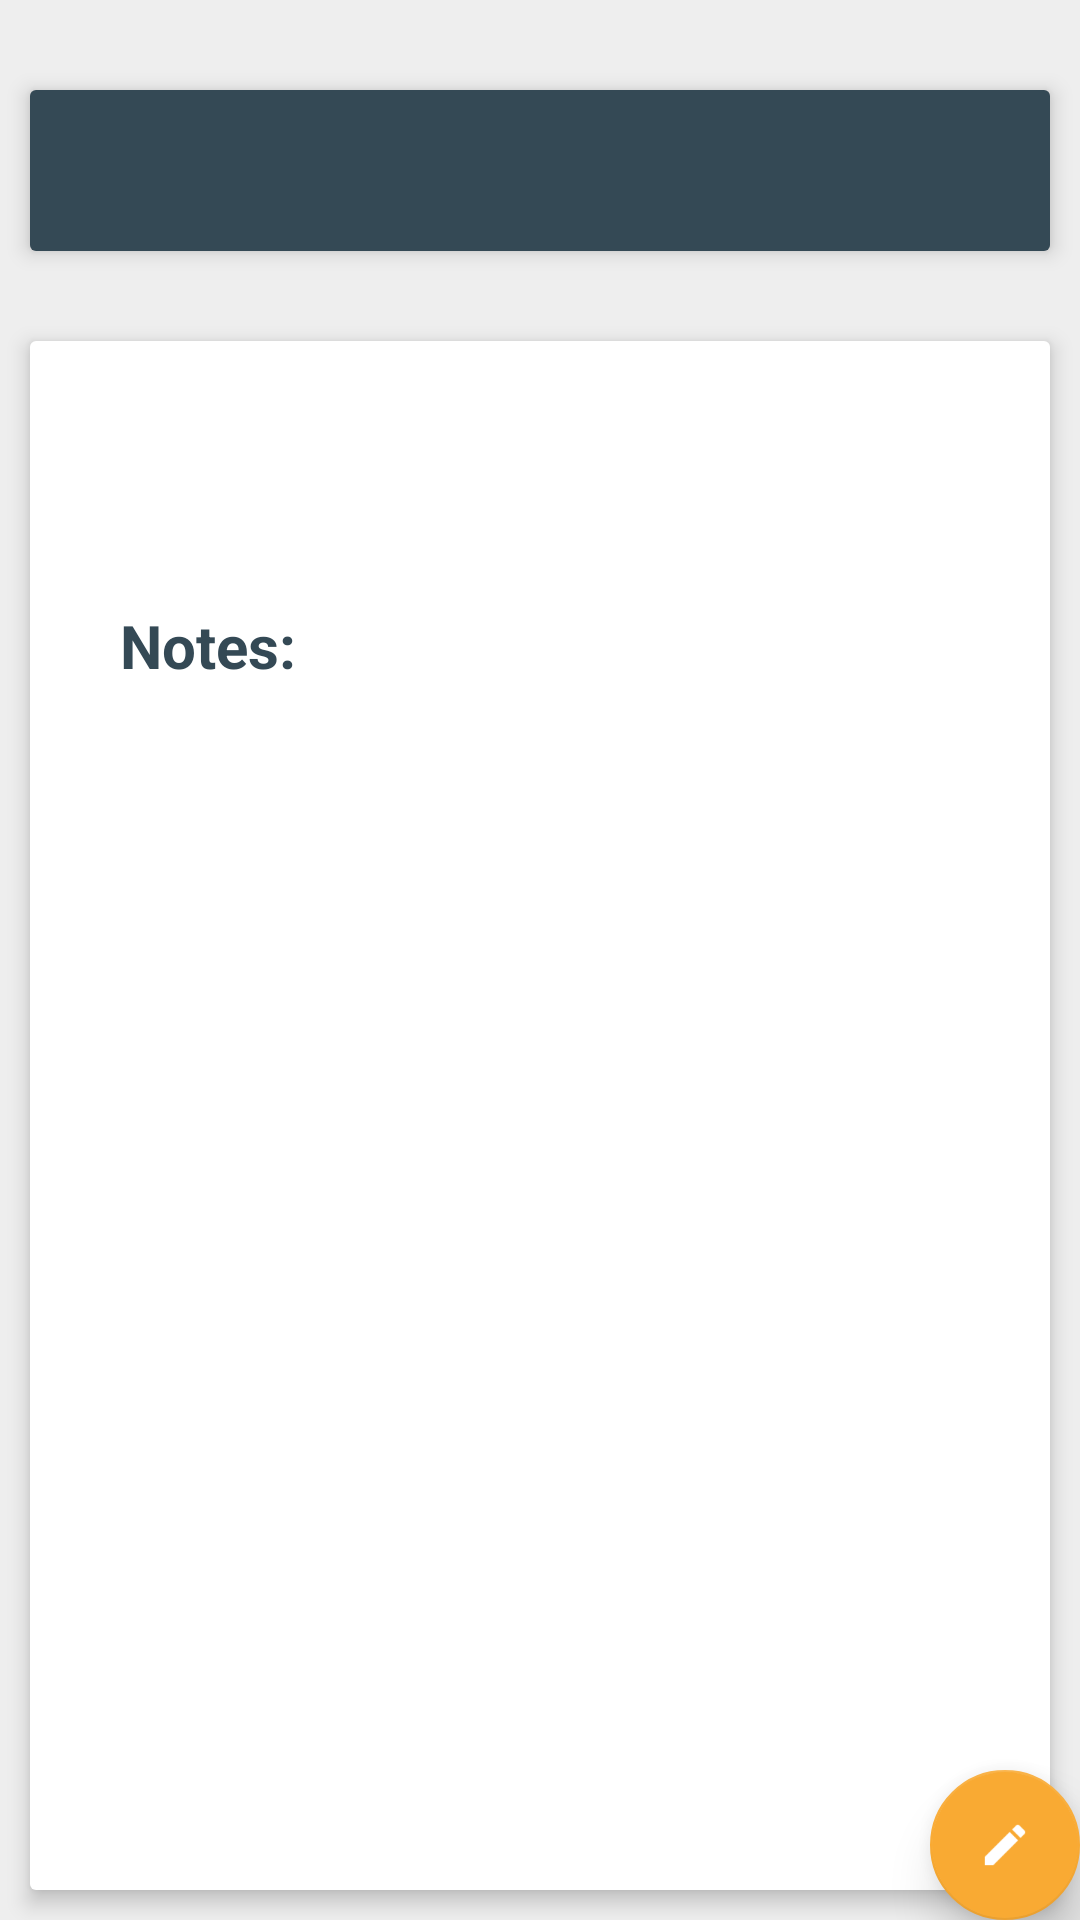

Where to tap for icons on this 1080*1920 app screen, as [x,y]:
edit: [1005,1845]
